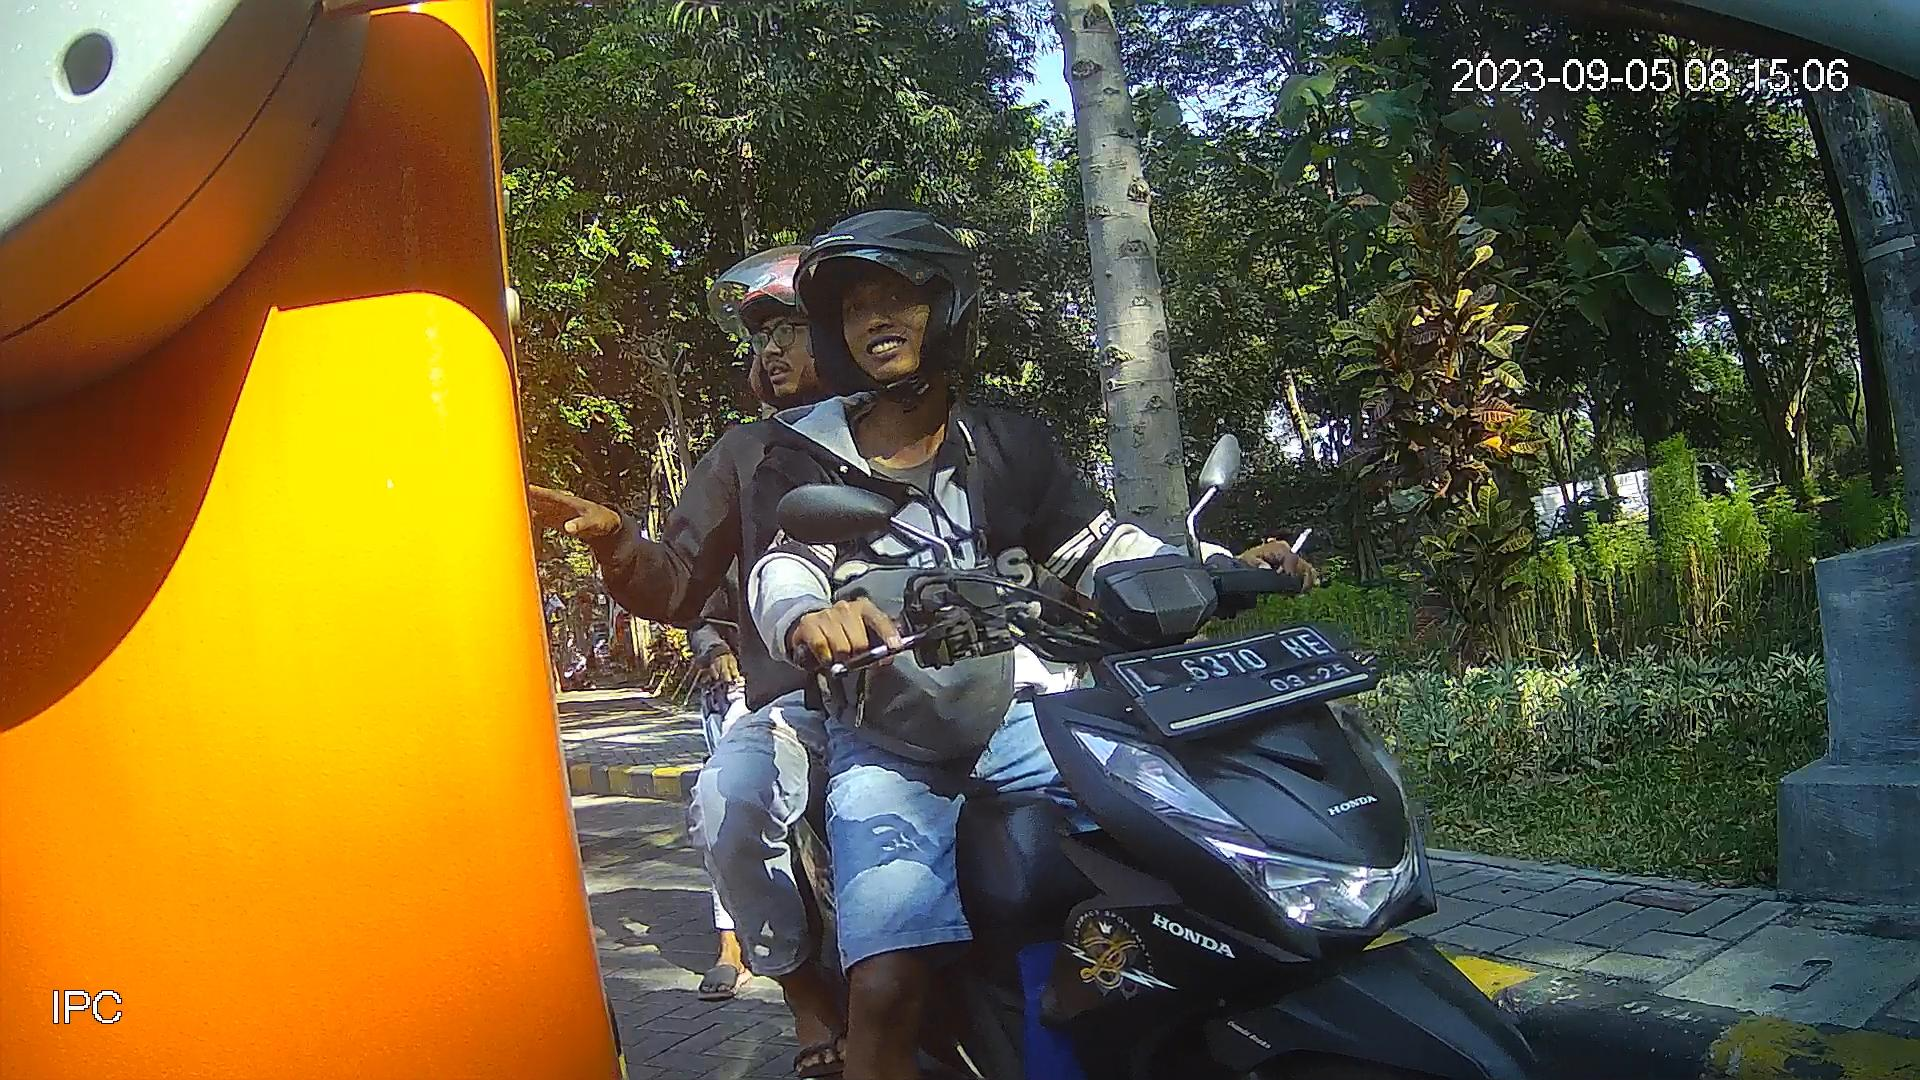plat: (1101, 621, 1386, 741)
